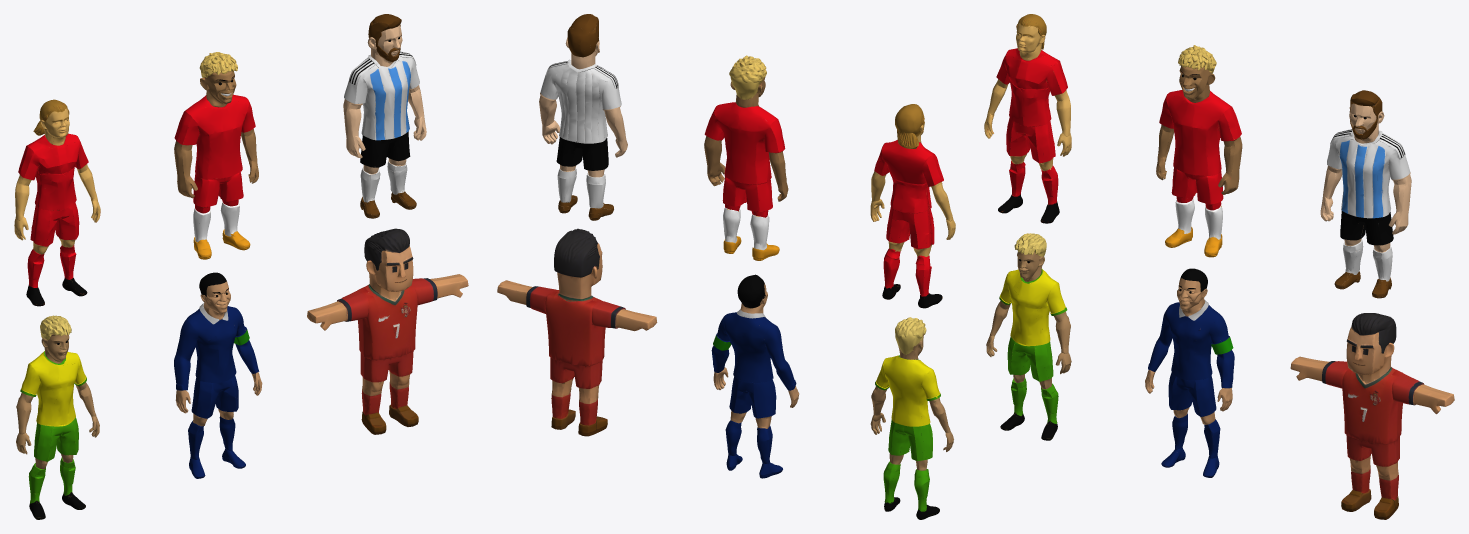
File: world-cup-players-pack.gltf
3 renders of one model, left to right at view 1: azimuth 30°, elevation 25°; view 2: azimuth 150°, elevation 25°; view 3: azimuth 330°, elevation 25°, orthographic. The views are drawn at different scales.
Visible parts, largest first — view 1: _gltfNode_11, _gltfNode_19, _gltfNode_21, _gltfNode_17, _gltfNode_15, _gltfNode_0, _gltfNode_13, _gltfNode_3; view 2: _gltfNode_11, _gltfNode_21, _gltfNode_19, _gltfNode_17, _gltfNode_15, _gltfNode_13, _gltfNode_0, _gltfNode_3, _gltfNode_2; view 3: _gltfNode_11, _gltfNode_21, _gltfNode_19, _gltfNode_17, _gltfNode_15, _gltfNode_13, _gltfNode_0, _gltfNode_3.
Boxes of the visible parts, x1,y1,x2,y2 form: _gltfNode_11: (307, 228, 468, 434); _gltfNode_19: (174, 52, 258, 259); _gltfNode_21: (343, 14, 426, 218); _gltfNode_17: (14, 99, 100, 306); _gltfNode_15: (16, 315, 99, 519); _gltfNode_0: (174, 306, 258, 478); _gltfNode_13: (175, 280, 262, 477); _gltfNode_3: (176, 281, 261, 426); _gltfNode_11: (497, 228, 657, 436); _gltfNode_21: (539, 14, 627, 220); _gltfNode_19: (704, 55, 788, 260); _gltfNode_17: (870, 104, 955, 308); _gltfNode_15: (870, 317, 953, 519); _gltfNode_13: (711, 280, 798, 478); _gltfNode_0: (716, 312, 796, 478); _gltfNode_3: (713, 285, 799, 428); _gltfNode_2: (740, 274, 765, 306); _gltfNode_11: (1290, 313, 1454, 519); _gltfNode_21: (1320, 90, 1411, 298); _gltfNode_19: (1156, 45, 1242, 257); _gltfNode_17: (984, 14, 1071, 223); _gltfNode_15: (986, 233, 1071, 440); _gltfNode_13: (1145, 273, 1234, 477); _gltfNode_0: (1148, 302, 1229, 477); _gltfNode_3: (1145, 278, 1232, 424).
Bounding box in the file's own units: 4.61 × 4.05 × 0.4766.
11 materials, 6 textured.
